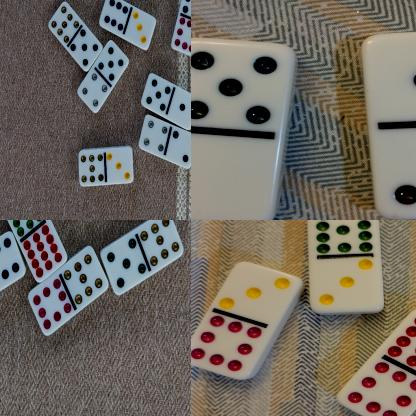pip-1: (360, 30, 416, 122), (169, 88, 191, 129)
pip-11: (306, 220, 379, 255), (0, 220, 42, 236)
pip-12: (23, 224, 67, 282), (388, 308, 416, 374)
pip-2: (367, 122, 416, 219), (167, 126, 191, 169)
pip-3: (218, 262, 300, 316), (307, 258, 384, 312), (128, 8, 156, 50), (104, 145, 133, 184)
pip-4: (76, 72, 107, 112), (138, 115, 168, 154)
pip-5: (191, 38, 294, 132), (100, 235, 146, 294), (98, 38, 128, 81), (70, 29, 102, 69), (141, 72, 170, 112)
pip-6: (0, 229, 24, 288), (97, 0, 129, 31)
pip-7: (64, 245, 109, 304), (138, 220, 183, 267), (48, 1, 80, 43), (78, 147, 104, 186)
pip-8: (191, 314, 261, 379), (336, 361, 416, 416), (27, 277, 72, 337), (170, 15, 191, 55)
